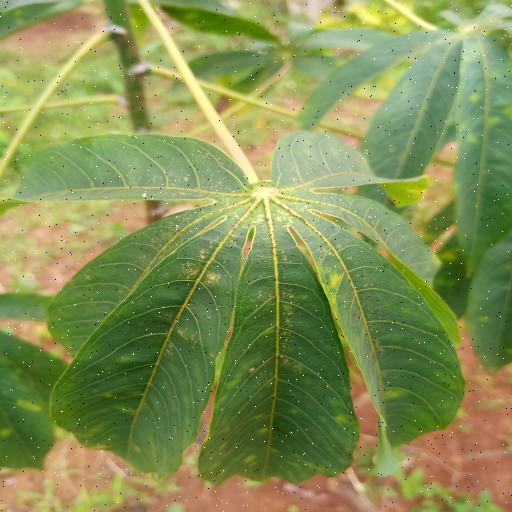Cassava_Mosaic: (11, 135, 470, 485)
